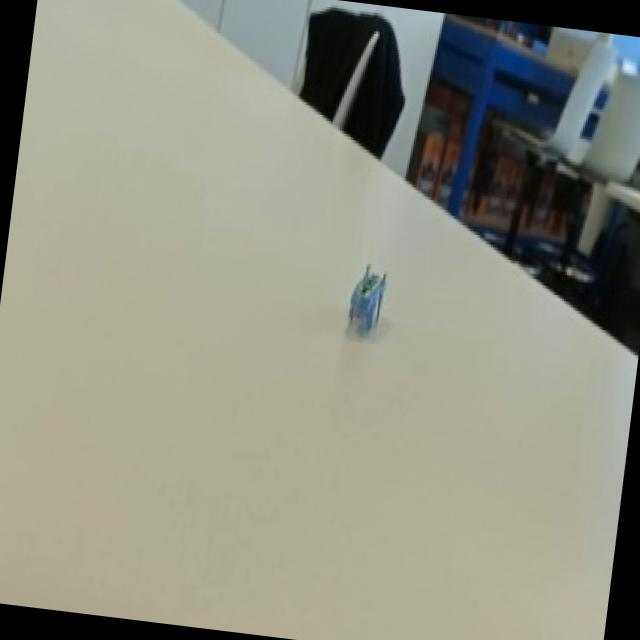3_NanoBug_Celeste: (307, 238, 418, 362)
